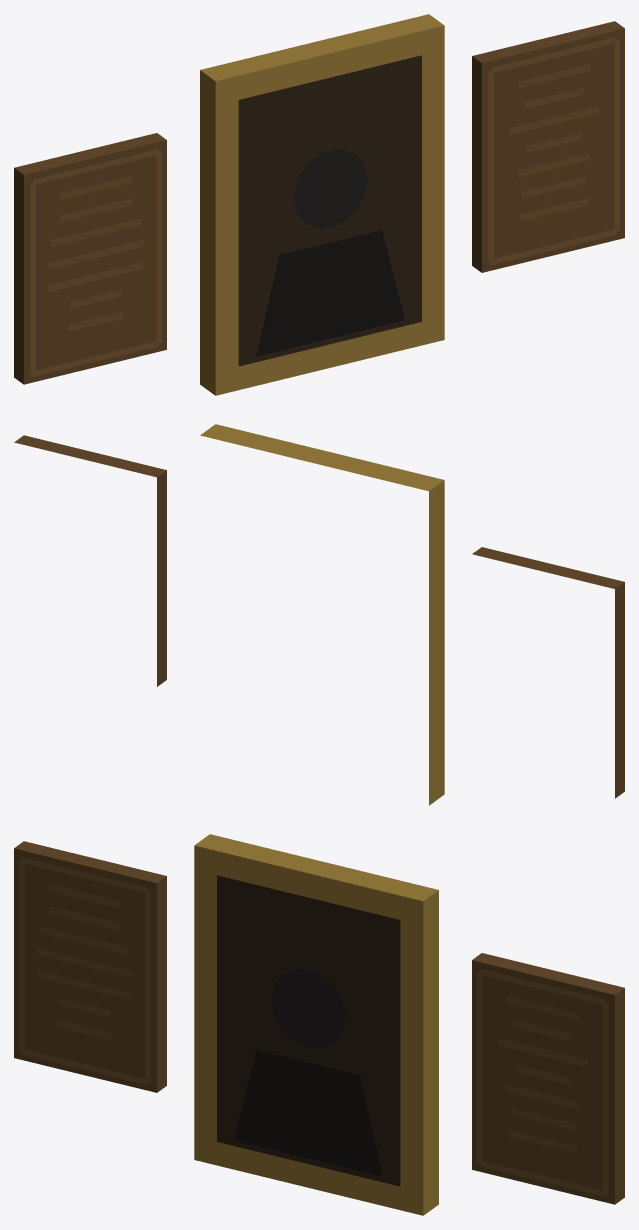
File: sign.honours.bronze.glb
3 renders of one model, top to bottom at view 1: azimuth 30°, elevation 25°; view 2: azimuth 150°, elevation 25°; view 3: azimuth 330°, elevation 25°, orthographic.
Parts seen in each view (by area): view 1: sign_honours_bronze; view 2: sign_honours_bronze; view 3: sign_honours_bronze.
Boxes of the visible parts, x1,y1,x2,y2 form: sign_honours_bronze: (14, 14, 624, 395); sign_honours_bronze: (14, 424, 624, 805); sign_honours_bronze: (14, 834, 624, 1215).
Size of what is drawn, in the model's own units: 2.1 by 1.05 by 0.098.
